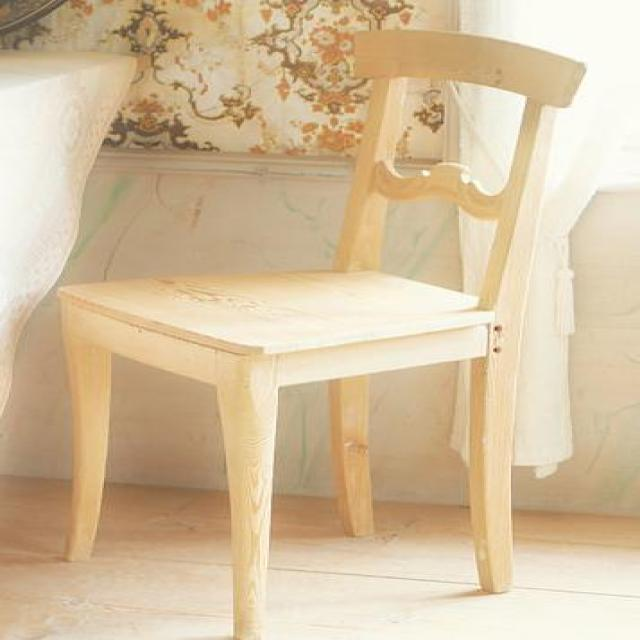chair: (56, 28, 591, 640)
